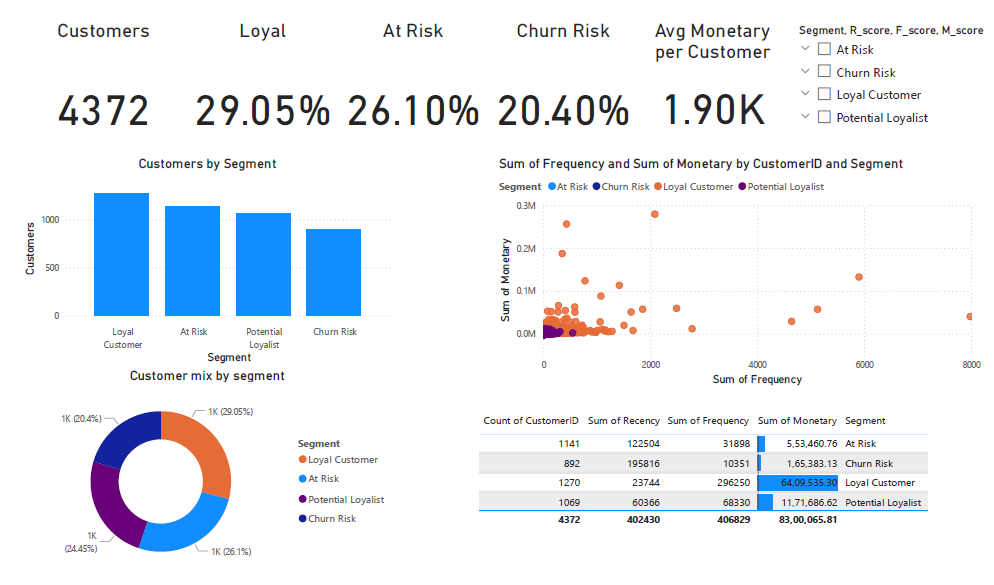

Layout of this report page (visuals, bound fields, positions):
{"tool":"powerbi","page":{"name":"Page 1","canvas":[1280,720],"ordinal":0},"visuals":[{"type":"card","title":"Customers","fields":{"Values":["rfm_segments.Customers"]},"box":[0,0,215.3,190.5],"z":0},{"type":"card","title":"Churn Risk","fields":{"Values":["rfm_segments.% Churn Risk"]},"box":[601.3,0,192.2,190.5],"z":1000},{"type":"card","title":"At Risk","fields":{"Values":["rfm_segments.% At Risk"]},"box":[407.5,0,195.5,190.5],"z":2000},{"type":"card","title":"Loyal","fields":{"Values":["rfm_segments.% Loyal"]},"box":[213.7,0,195.5,190.5],"z":3000},{"type":"card","title":"Avg Monetary per Customer","fields":{"Values":["rfm_segments.Avg Monetary per Customer"]},"box":[791.8,0,195.5,159],"z":4000},{"type":"clusteredColumnChart","fields":{"Category":["rfm_segments.Segment"],"Y":["rfm_segments.Customers"]},"box":[0,173.9,482,271.7],"z":5000},{"type":"donutChart","title":"Customer mix by segment","fields":{"Category":["rfm_segments.Segment"],"Y":["rfm_segments.Customers"]},"box":[0,445.6,482,275],"z":6000},{"type":"tableEx","fields":{"Values":["CountNonNull(rfm_segments.CustomerID)","Sum(rfm_segments.Recency)","Sum(rfm_segments.Frequency)","Sum(rfm_segments.Monetary)","rfm_segments.Segment"]},"box":[584.7,498.6,652.7,195.5],"z":7000},{"type":"scatterChart","fields":{"X":["Sum(rfm_segments.Frequency)"],"Y":["Sum(rfm_segments.Monetary)"],"Series":["rfm_segments.Segment"],"Category":["rfm_segments.CustomerID"]},"box":[609.6,173.9,627.8,299.8],"z":8000},{"type":"slicer","fields":{"Values":["rfm_segments.Segment","rfm_segments.R_score","rfm_segments.F_score","rfm_segments.M_score"]},"box":[987.3,0,293.2,173.9],"z":9000}]}

Visuals, with their boxes on the page's 1280x720 design canvas (x1, y1, x2, y2). These are canvas units, not pixel positions in the 994x585 screenshot, which may show the page scaled, cropped or inside an application window:
"Customers" card: bbox=[0, 0, 215, 190]
"Churn Risk" card: bbox=[601, 0, 794, 190]
"At Risk" card: bbox=[408, 0, 603, 190]
"Loyal" card: bbox=[214, 0, 409, 190]
"Avg Monetary per Customer" card: bbox=[792, 0, 987, 159]
clusteredColumnChart - rfm_segments.Segment x rfm_segments.Customers: bbox=[0, 174, 482, 446]
"Customer mix by segment" donutChart: bbox=[0, 446, 482, 721]
tableEx - CountNonNull(rfm_segments.CustomerID) x Sum(rfm_segments.Recency): bbox=[585, 499, 1237, 694]
scatterChart - Sum(rfm_segments.Frequency) x Sum(rfm_segments.Monetary): bbox=[610, 174, 1237, 474]
slicer - rfm_segments.Segment x rfm_segments.R_score: bbox=[987, 0, 1280, 174]
